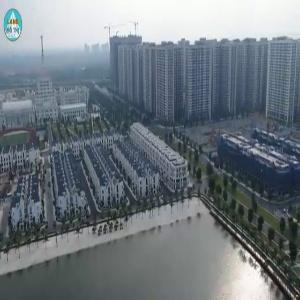drone: (51, 168, 110, 227)
